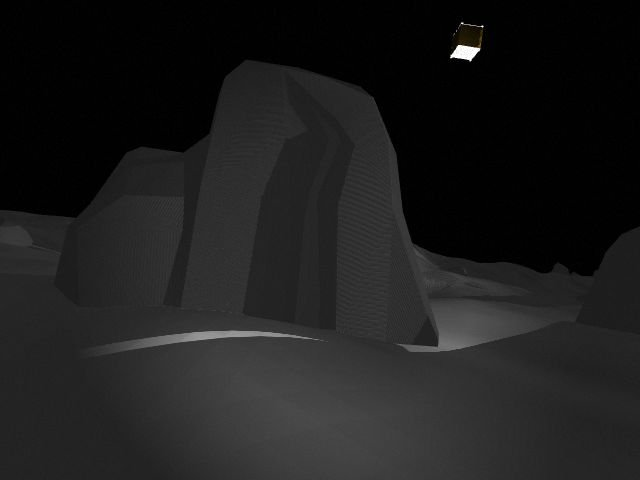cubesat: (444, 20, 487, 66)
